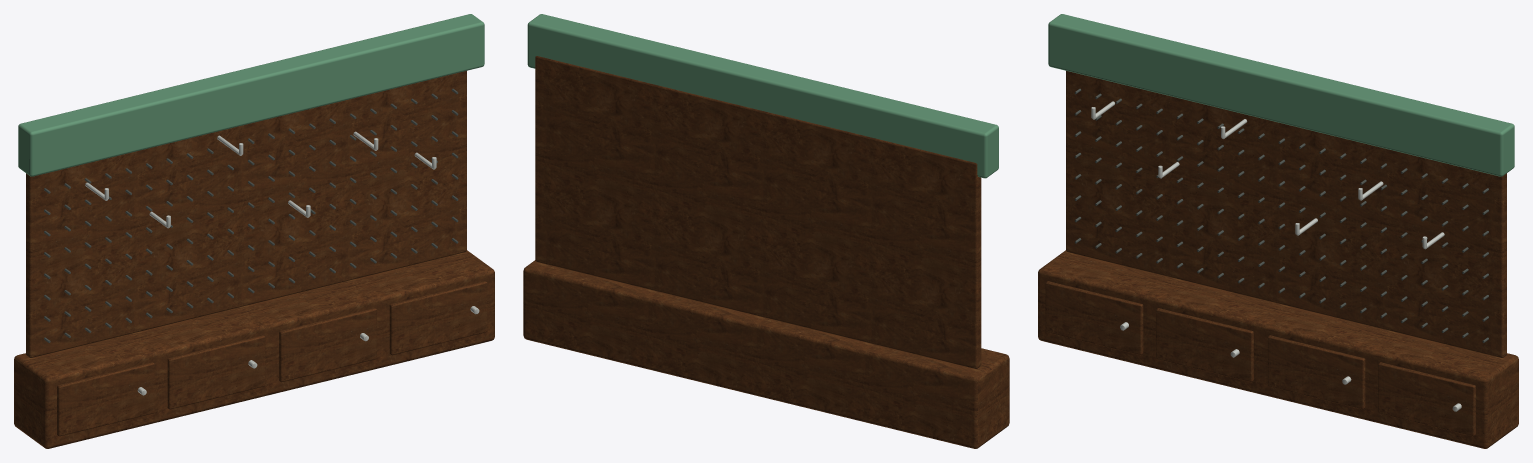
The model's file is miller_pegboard_tool_wall.glb.
3 renders of one model, left to right at view 1: azimuth 30°, elevation 25°; view 2: azimuth 150°, elevation 25°; view 3: azimuth 330°, elevation 25°, orthographic.
Parts seen in each view (by area): view 1: miller_pegboard_tool_wall_miller_worn_oak_pbr, miller_pegboard_tool_wall_miller_forest_enamel_pbr, miller_pegboard_tool_wall_miller_dark_oak_pbr, miller_pegboard_tool_wall_miller_blackened_steel_pbr, miller_pegboard_tool_wall_miller_galvanized_steel_pbr; view 2: miller_pegboard_tool_wall_miller_worn_oak_pbr, miller_pegboard_tool_wall_miller_dark_oak_pbr, miller_pegboard_tool_wall_miller_forest_enamel_pbr; view 3: miller_pegboard_tool_wall_miller_worn_oak_pbr, miller_pegboard_tool_wall_miller_forest_enamel_pbr, miller_pegboard_tool_wall_miller_dark_oak_pbr, miller_pegboard_tool_wall_miller_blackened_steel_pbr, miller_pegboard_tool_wall_miller_galvanized_steel_pbr.
Part boxes in pixels (<box>): miller_pegboard_tool_wall_miller_worn_oak_pbr: <box>26,71,487,436</box>; miller_pegboard_tool_wall_miller_forest_enamel_pbr: <box>18,14,484,176</box>; miller_pegboard_tool_wall_miller_dark_oak_pbr: <box>14,250,494,448</box>; miller_pegboard_tool_wall_miller_blackened_steel_pbr: <box>44,88,458,342</box>; miller_pegboard_tool_wall_miller_galvanized_steel_pbr: <box>85,131,479,395</box>; miller_pegboard_tool_wall_miller_worn_oak_pbr: <box>535,56,981,368</box>; miller_pegboard_tool_wall_miller_dark_oak_pbr: <box>523,260,1009,448</box>; miller_pegboard_tool_wall_miller_forest_enamel_pbr: <box>527,14,998,178</box>; miller_pegboard_tool_wall_miller_worn_oak_pbr: <box>1045,71,1506,436</box>; miller_pegboard_tool_wall_miller_forest_enamel_pbr: <box>1048,14,1514,176</box>; miller_pegboard_tool_wall_miller_dark_oak_pbr: <box>1038,250,1518,448</box>; miller_pegboard_tool_wall_miller_blackened_steel_pbr: <box>1074,88,1488,342</box>; miller_pegboard_tool_wall_miller_galvanized_steel_pbr: <box>1091,101,1461,411</box>.
Bounding box in the file's own units: 4.24 × 2.75 × 0.64.
Materials: 5 (2 with a texture image).
